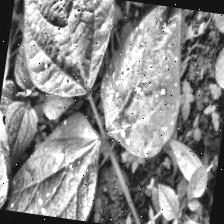Bean Rust: (89, 0, 193, 164), (6, 0, 114, 108), (5, 108, 100, 221)
